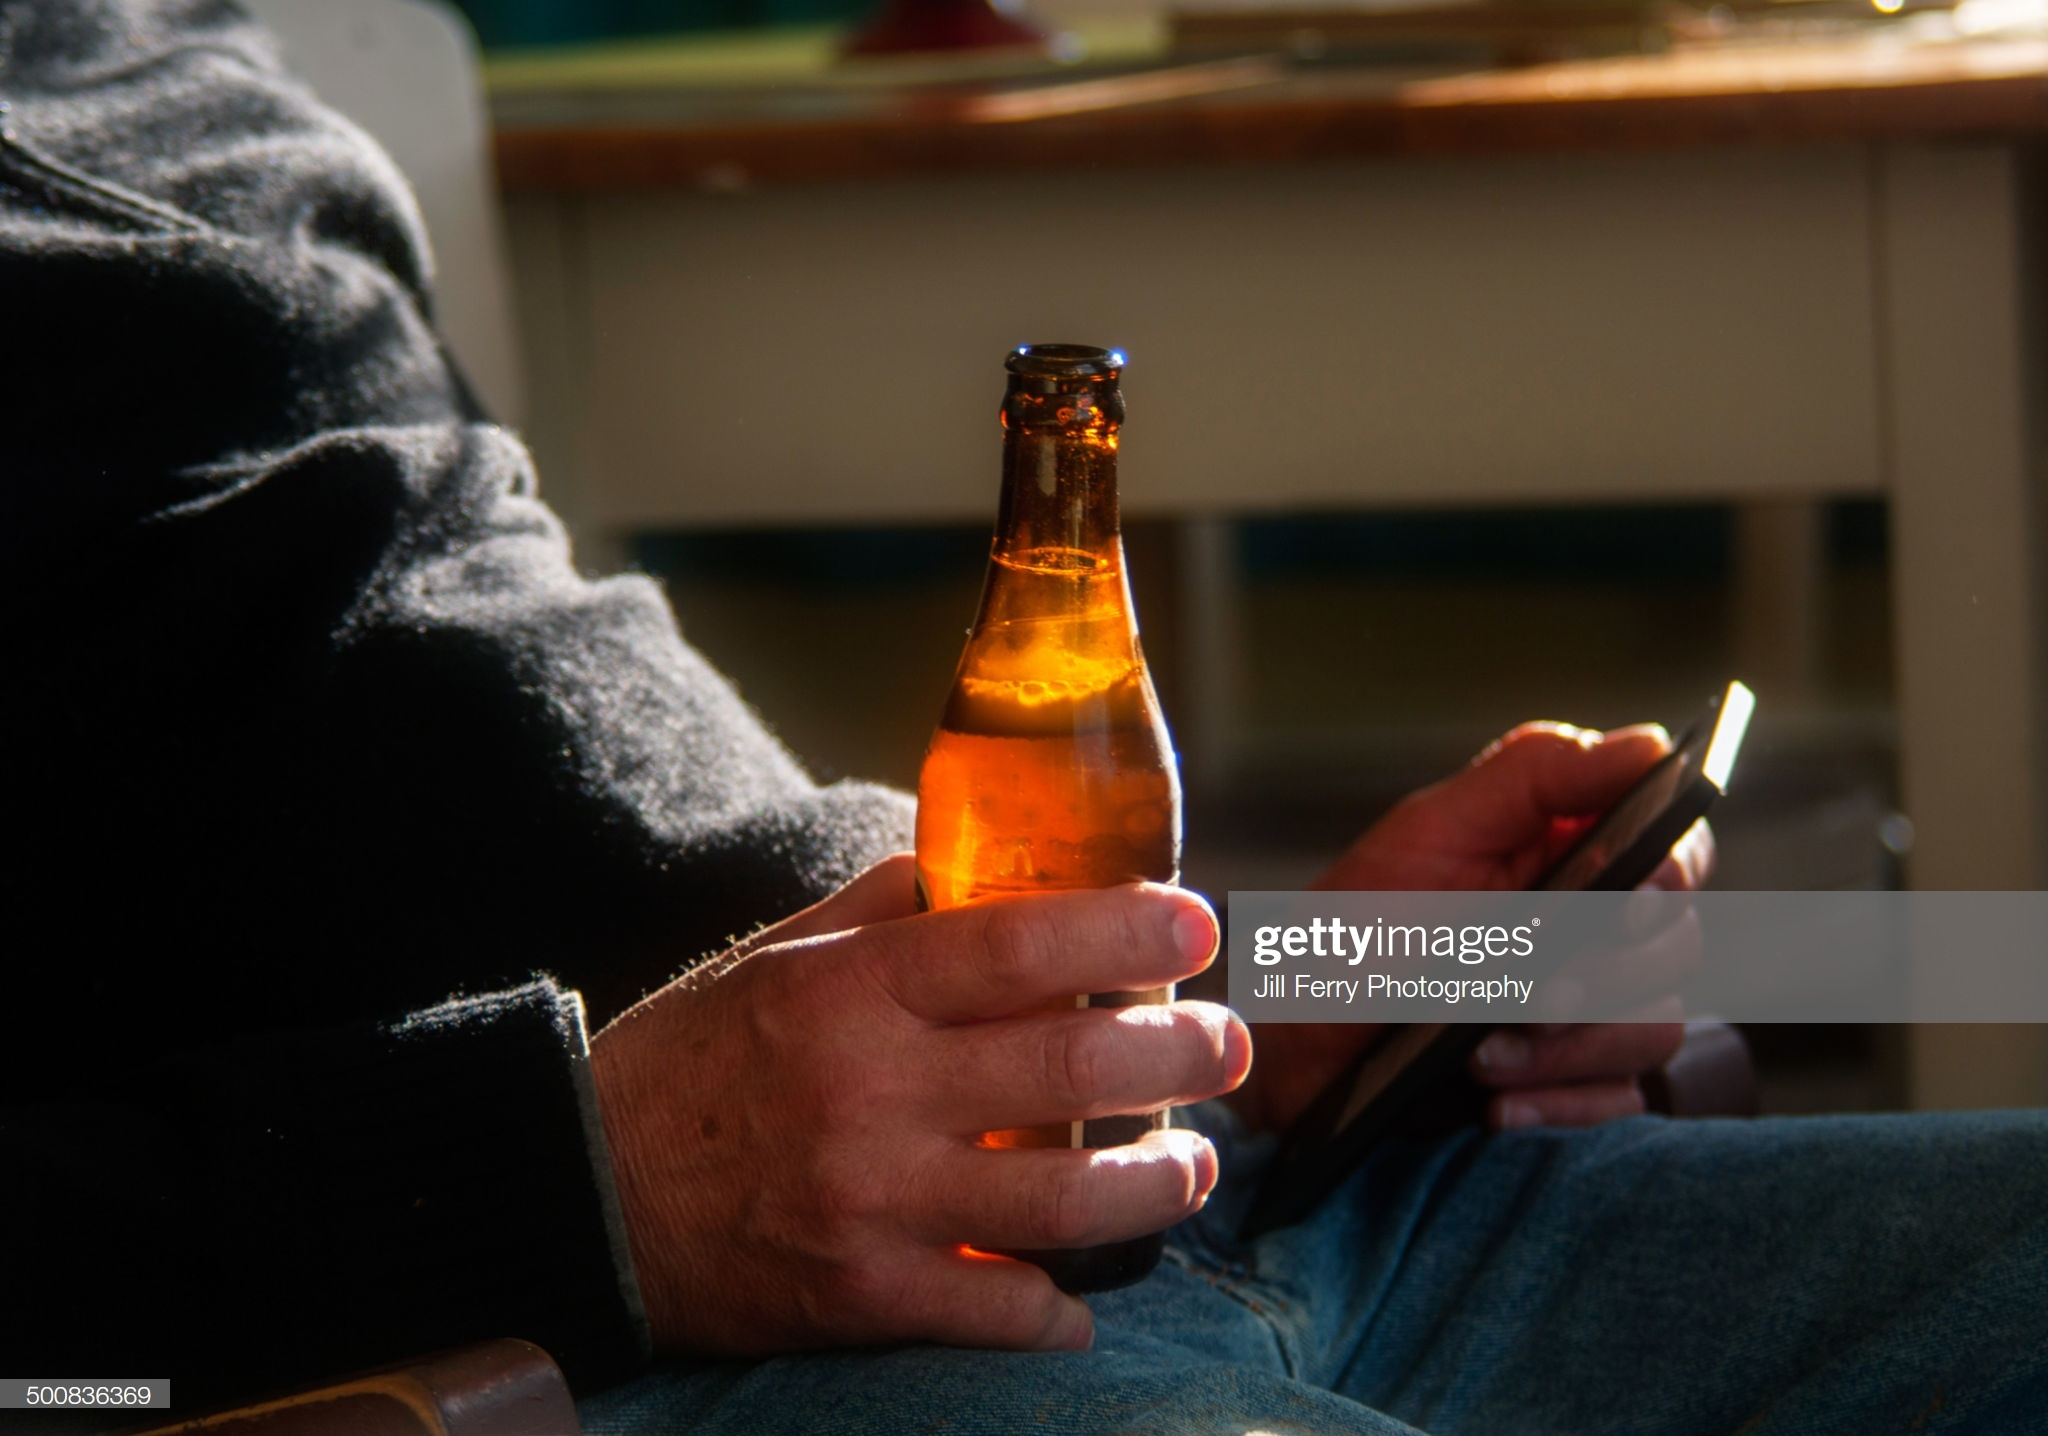beerBottle: (914, 355, 1180, 1263)
